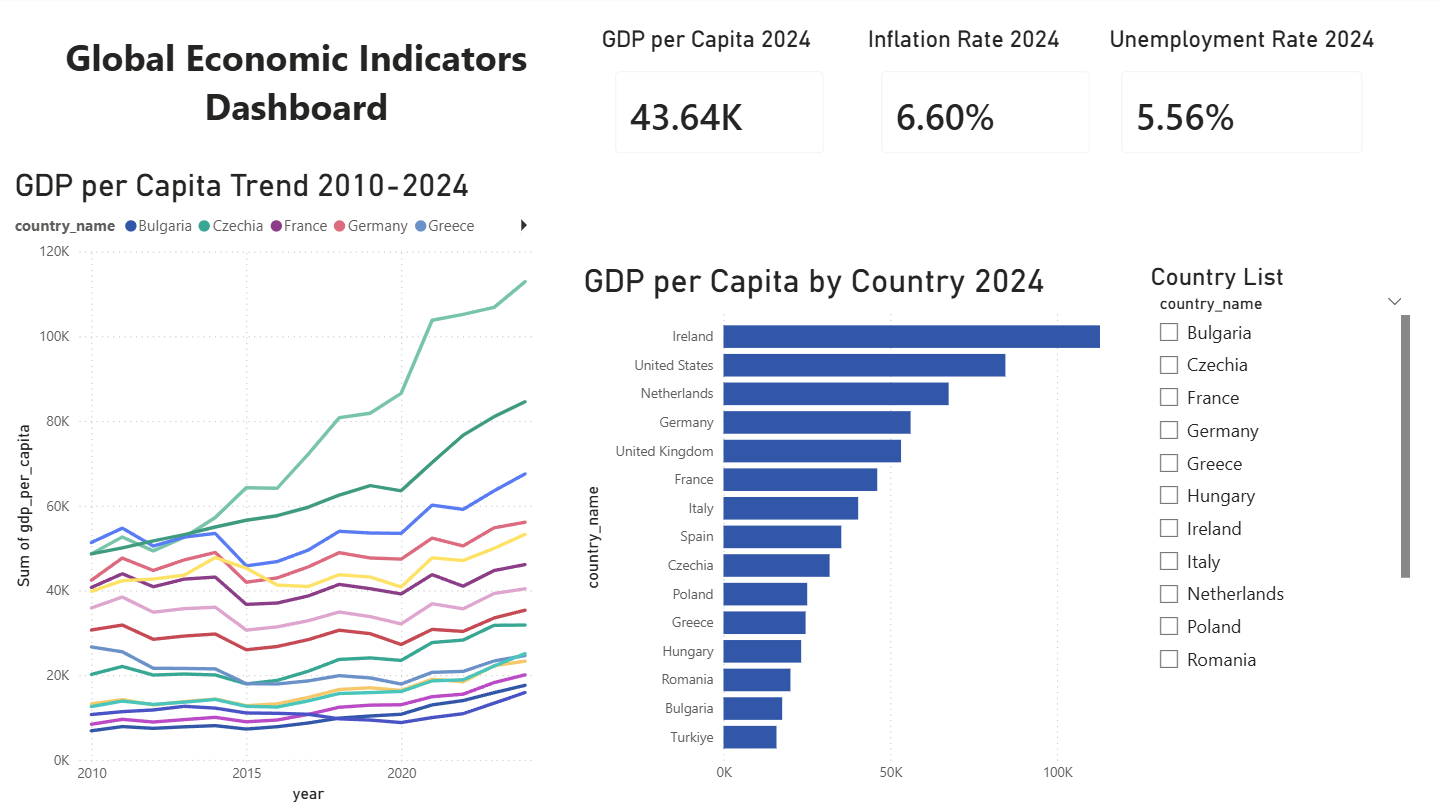

Layout of this report page (visuals, bound fields, positions):
{"tool":"powerbi","page":{"name":"Page 1","canvas":[1280,720],"ordinal":0},"visuals":[{"type":"slicer","title":"Country List","fields":{"Values":["worldbank_wide.country_name"]},"box":[1017.4,235.4,240.2,370.6],"z":0},{"type":"cardVisual","title":"GDP per Capita 2024","fields":{"Data":["Avg(worldbank_wide.gdp_per_capita)"]},"box":[530.1,25.3,219.8,130.3],"z":1000},{"type":"cardVisual","title":"Inflation Rate 2024","fields":{"Data":["worldbank_wide.Inflation %"]},"box":[766.4,25.3,219.8,130.3],"z":1001},{"type":"cardVisual","title":"Unemployment Rate 2024","fields":{"Data":["worldbank_wide.Unemployment %"]},"box":[978.5,25.3,248,130.3],"z":1002},{"type":"lineChart","title":"GDP per Capita Trend 2010-2024","fields":{"Category":["worldbank_wide.year"],"Y":["Sum(worldbank_wide.gdp_per_capita)"],"Series":["worldbank_wide.country_name"]},"box":[9.7,150.8,475.6,569],"z":1003},{"type":"clusteredBarChart","title":"GDP per Capita by Country 2024","fields":{"Category":["worldbank_wide.country_name"],"Y":["Sum(worldbank_wide.gdp_per_capita)"]},"box":[514.5,235.4,502.9,470.8],"z":1004},{"type":"textbox","box":[9.7,25.3,509.7,111.9],"z":1005}]}

Visuals, with their boxes in screenshot pixels (x1, y1, x2, y2), scaled from the page's 1280x720 canvas onto the 1439x806 screenshot:
"Country List" slicer: <region>1144, 264, 1414, 678</region>
"GDP per Capita 2024" cardVisual: <region>596, 28, 843, 174</region>
"Inflation Rate 2024" cardVisual: <region>862, 28, 1109, 174</region>
"Unemployment Rate 2024" cardVisual: <region>1100, 28, 1379, 174</region>
"GDP per Capita Trend 2010-2024" lineChart: <region>11, 169, 546, 805</region>
"GDP per Capita by Country 2024" clusteredBarChart: <region>578, 264, 1144, 791</region>
textbox: <region>11, 28, 584, 154</region>
